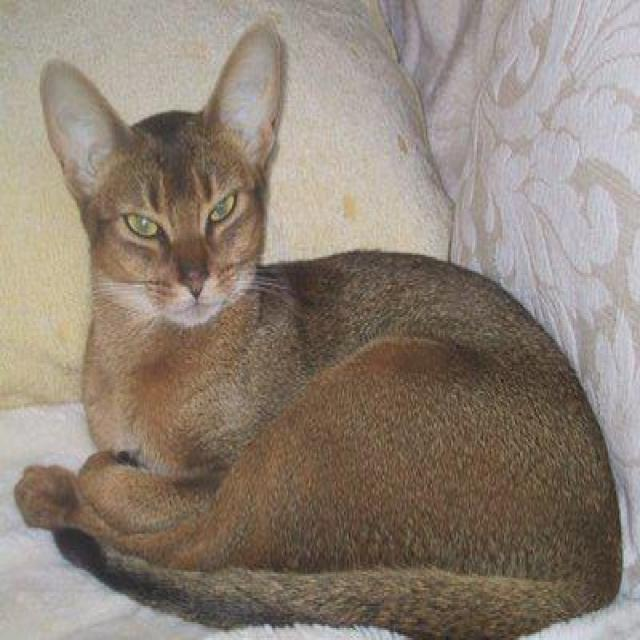cat: (13, 24, 624, 640)
